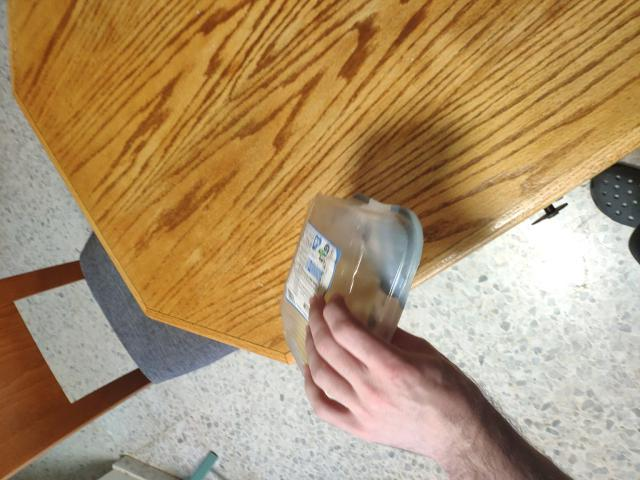cheese: (285, 252, 426, 412)
